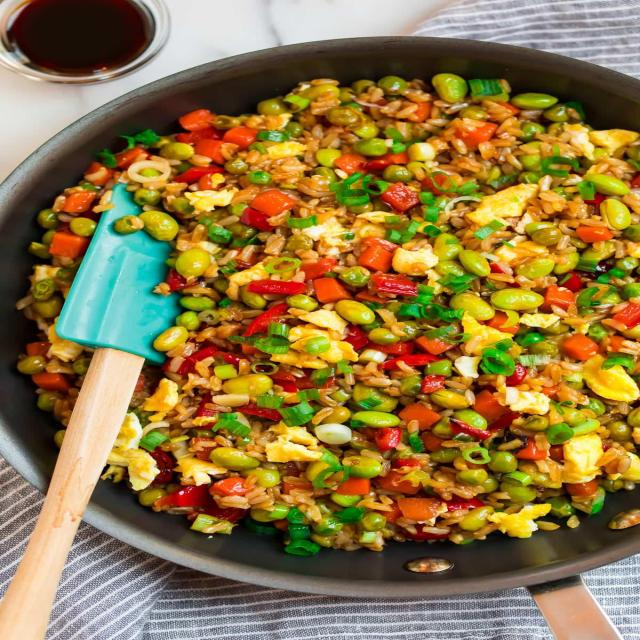Nasi Goreng: (21, 71, 638, 556)
